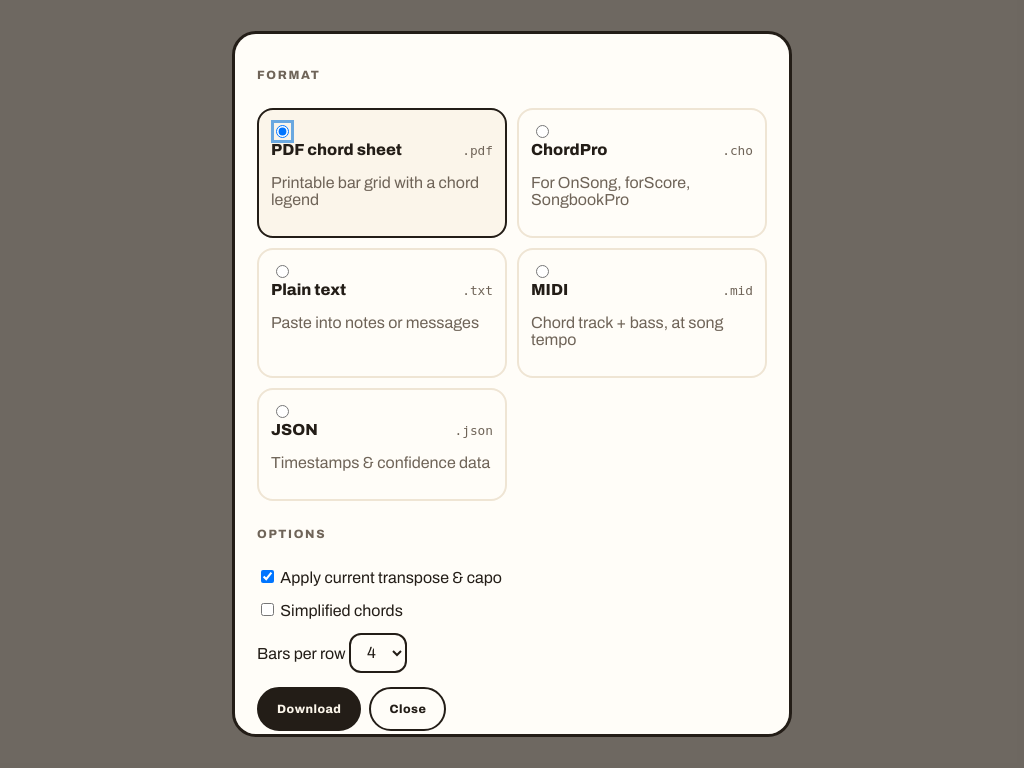
Test case: ExportModal › shows an error if the export request fails
Click the button "Download" at coordinates (309, 709), box [257,687,362,731]
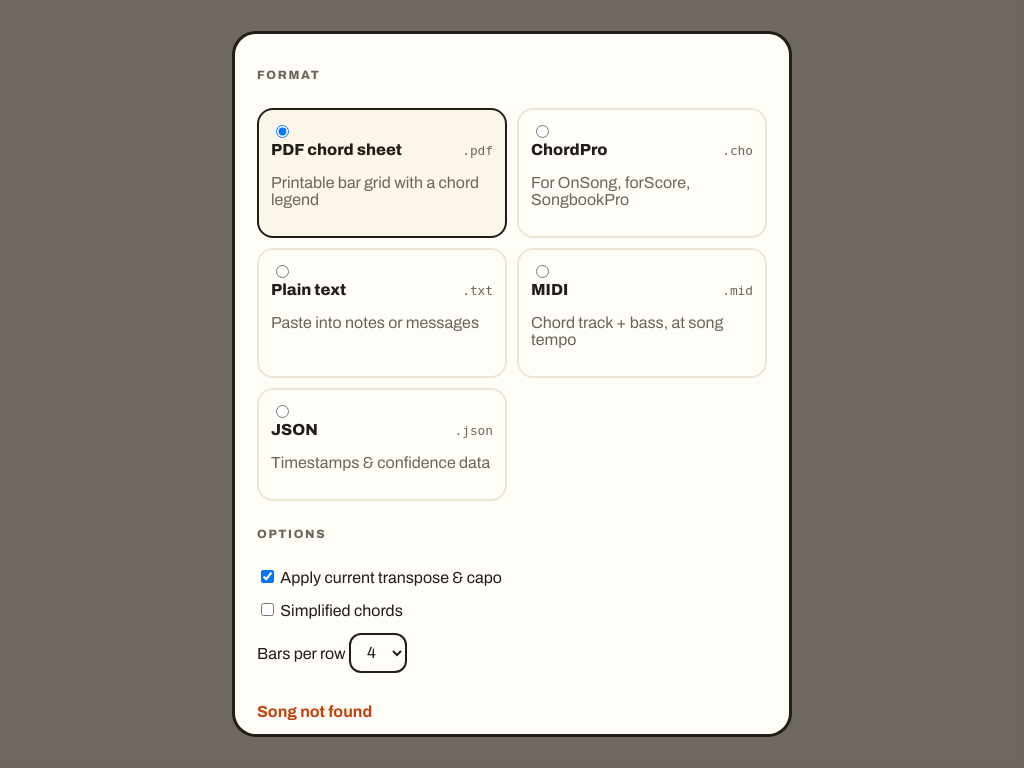
Expected: the message reads "Song not found", [257,703,372,720]
